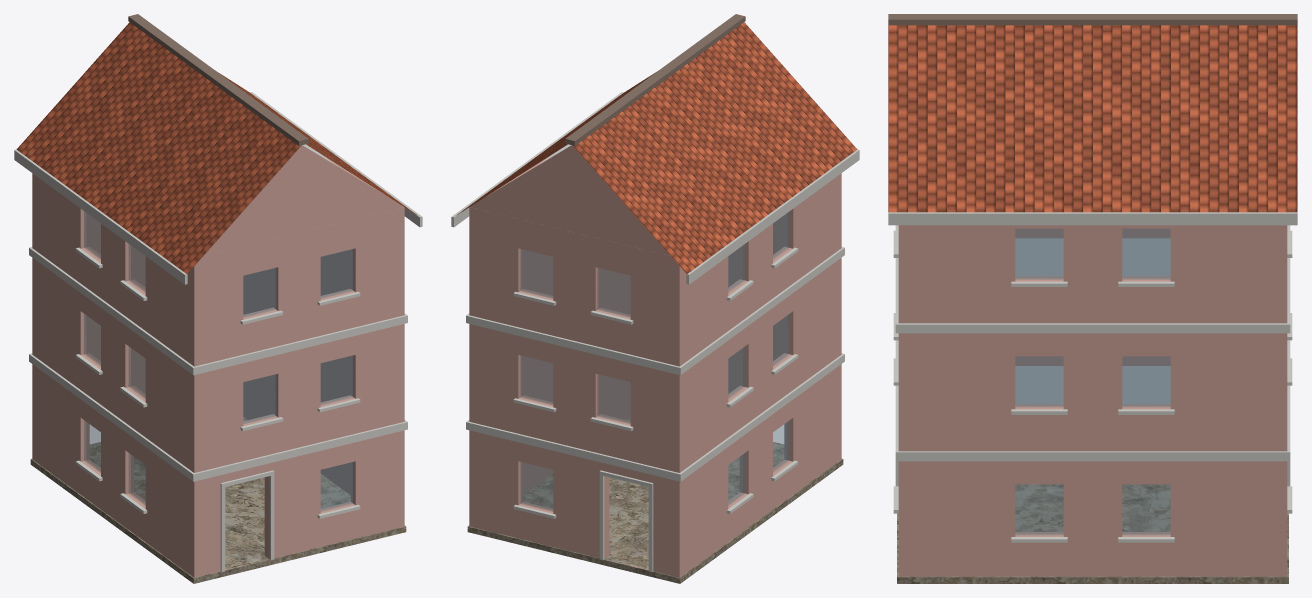
Rendered from cove-house-salmon.coast-v2.lod1.glb.
The picture shows the model from 3 angles, left to right: view 1: azimuth 30°, elevation 25°; view 2: azimuth 150°, elevation 25°; view 3: azimuth 270°, elevation 25°; orthographic projection. The views are drawn at different scales.
Visible parts, largest first — view 1: cove-house-salmon; view 2: cove-house-salmon; view 3: cove-house-salmon.
Boxes of the visible parts, x1,y1,x2,y2 form: cove-house-salmon: [14, 14, 422, 583]; cove-house-salmon: [451, 14, 859, 583]; cove-house-salmon: [888, 14, 1297, 583].
Bounding box in the file's own units: 6.78 × 11.46 × 8.42.
4 materials, 2 textured.
